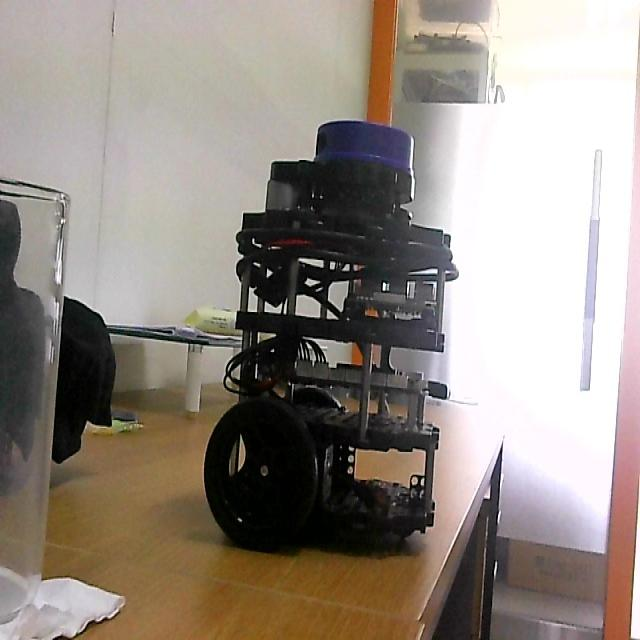turtle: (201, 117, 459, 558)
